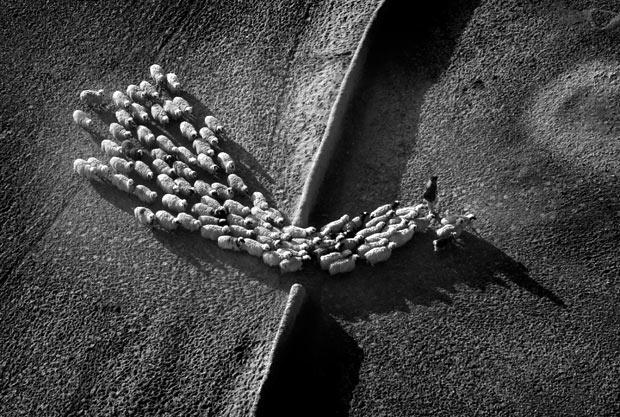sheep: (92, 135, 131, 162), (430, 219, 461, 251), (119, 142, 155, 167), (108, 157, 142, 183), (356, 221, 392, 245), (387, 217, 414, 249), (170, 161, 204, 185), (369, 204, 396, 233), (156, 173, 186, 199), (439, 208, 474, 230), (106, 119, 140, 141), (127, 206, 158, 230), (323, 215, 352, 240), (161, 99, 192, 122), (130, 104, 157, 130), (72, 159, 103, 181), (159, 135, 185, 161), (369, 245, 397, 269), (329, 250, 352, 279), (134, 78, 160, 103), (242, 236, 269, 260), (114, 106, 141, 129), (281, 221, 312, 241), (135, 181, 160, 205), (76, 88, 109, 106), (216, 232, 245, 252), (172, 94, 195, 119), (177, 147, 199, 173), (72, 109, 100, 129), (411, 211, 435, 233), (123, 82, 148, 103), (194, 153, 219, 174), (277, 256, 302, 276), (195, 181, 221, 200), (150, 206, 174, 226), (162, 192, 188, 210), (131, 163, 155, 182), (202, 222, 226, 241), (225, 172, 246, 193), (182, 215, 204, 235), (110, 90, 134, 108), (260, 247, 280, 268), (232, 214, 254, 233), (396, 200, 422, 216), (386, 217, 409, 235), (259, 205, 281, 223), (201, 125, 217, 149), (210, 182, 230, 201), (167, 71, 184, 93), (204, 195, 227, 211), (327, 253, 346, 272), (151, 61, 164, 88), (222, 156, 239, 176), (138, 127, 158, 143), (249, 187, 265, 206), (182, 117, 196, 138), (207, 116, 222, 135), (226, 200, 245, 215), (196, 202, 213, 215)
